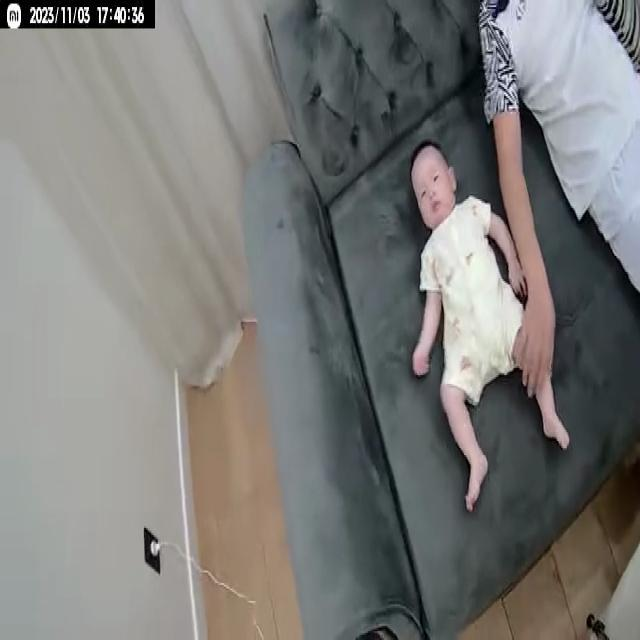baby: (407, 135, 571, 520)
